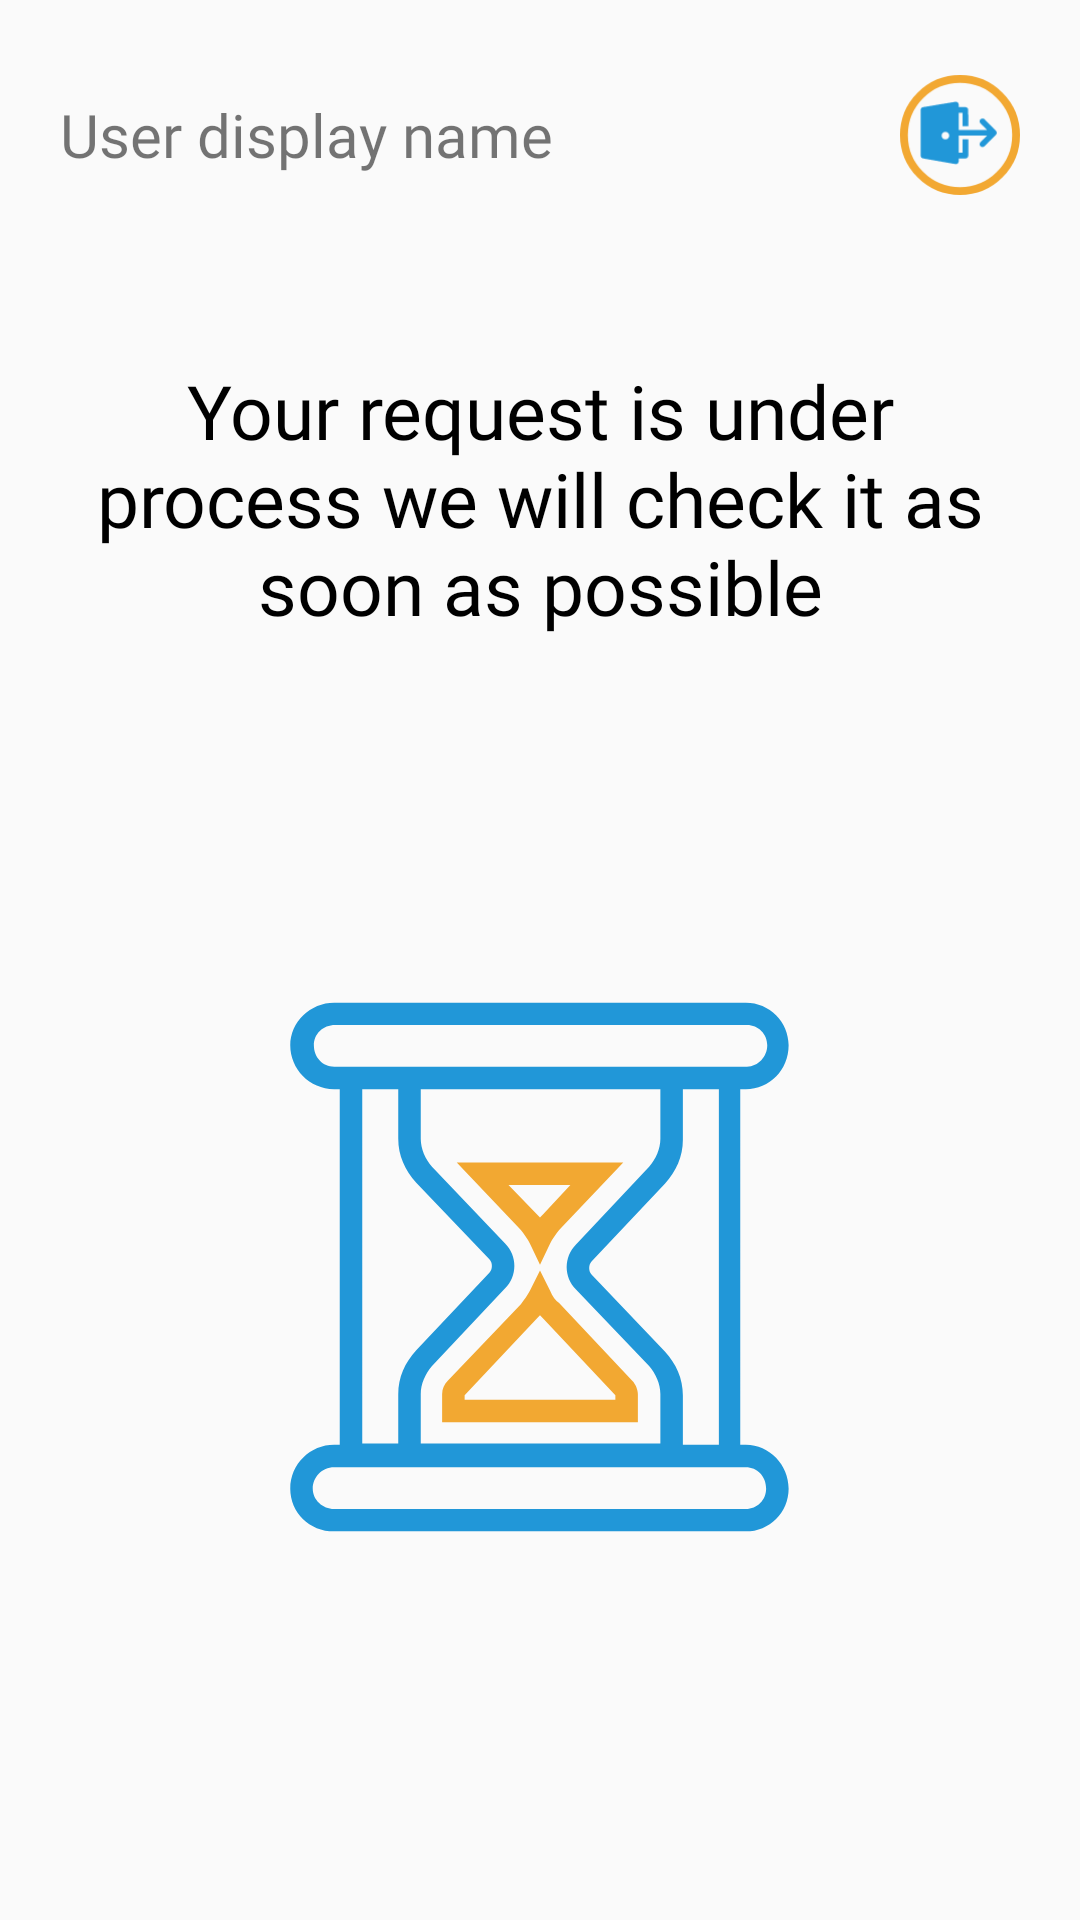

Screen size 1080w x 1920h. Icon name, then its box in pixels as bbox=[x1, y1, x2, y2]:
signout: bbox=[900, 75, 1020, 195]
